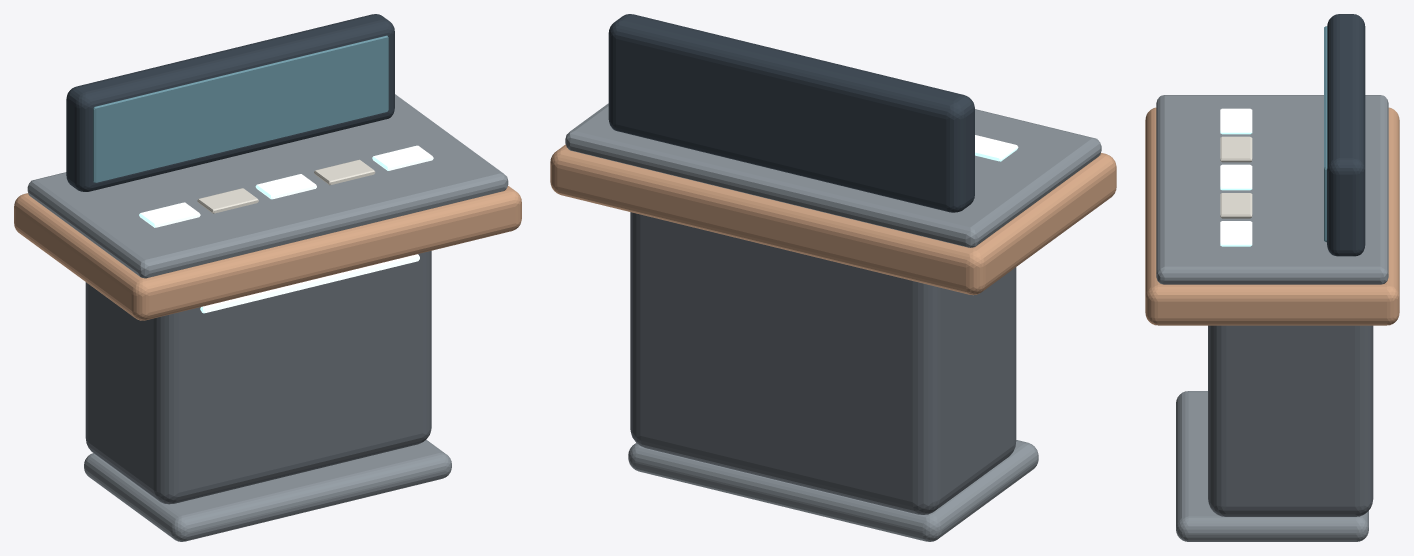
Rendered from bridge_workstation.glb.
The picture shows the model from 3 angles, left to right: view 1: azimuth 30°, elevation 25°; view 2: azimuth 150°, elevation 25°; view 3: azimuth 270°, elevation 25°; orthographic projection. The views are drawn at different scales.
Parts seen in each view (by area): view 1: shell_002, shell_004, shell_006, shell_003, shell_001, shell_005, shell_012, control_007, control_008, control_011, control_009, control_010; view 2: shell_002, shell_005, shell_003, shell_004, shell_001, control_007; view 3: shell_004, shell_002, shell_003, shell_005, shell_001, control_007, control_008, control_009, control_010, control_011, shell_006.
Boxes of the visible parts, x1=… form: shell_002: x1=85, y1=251, x2=431, y2=504; shell_004: x1=27, y1=94, x2=508, y2=278; shell_006: x1=93, y1=35, x2=388, y2=182; shell_003: x1=14, y1=186, x2=521, y2=320; shell_001: x1=84, y1=439, x2=451, y2=541; shell_005: x1=66, y1=14, x2=394, y2=191; shell_012: x1=200, y1=254, x2=419, y2=313; control_007: x1=139, y1=202, x2=200, y2=227; control_008: x1=197, y1=188, x2=258, y2=213; control_011: x1=372, y1=145, x2=433, y2=170; control_009: x1=255, y1=174, x2=316, y2=199; control_010: x1=314, y1=159, x2=375, y2=185; shell_002: x1=630, y1=212, x2=1016, y2=514; shell_005: x1=608, y1=14, x2=974, y2=212; shell_003: x1=550, y1=144, x2=1116, y2=295; shell_004: x1=565, y1=103, x2=1101, y2=247; shell_001: x1=628, y1=440, x2=1038, y2=541; control_007: x1=975, y1=135, x2=1018, y2=161; shell_004: x1=1156, y1=95, x2=1388, y2=284; shell_002: x1=1208, y1=325, x2=1373, y2=516; shell_003: x1=1145, y1=107, x2=1399, y2=325; shell_005: x1=1327, y1=14, x2=1365, y2=256; shell_001: x1=1176, y1=391, x2=1368, y2=541; control_007: x1=1220, y1=108, x2=1252, y2=134; control_008: x1=1220, y1=136, x2=1252, y2=162; control_009: x1=1220, y1=164, x2=1252, y2=190; control_010: x1=1220, y1=193, x2=1252, y2=218; control_011: x1=1220, y1=221, x2=1252, y2=246; shell_006: x1=1324, y1=26, x2=1327, y2=242.
Bounding box in the file's own units: 1.22 × 1.19 × 0.7.
